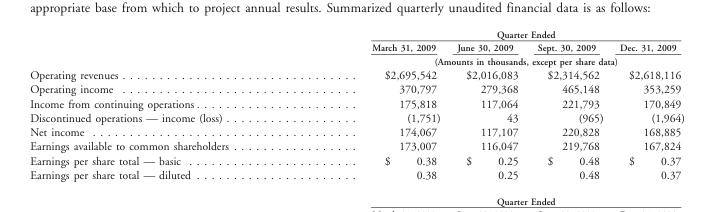table: (29, 28, 684, 180)
table column: (29, 28, 299, 180), (299, 28, 448, 180), (527, 28, 610, 180), (448, 28, 527, 180), (610, 28, 684, 180)
table column header: (29, 28, 684, 67)
table row: (29, 81, 684, 96), (29, 138, 684, 153), (29, 40, 684, 54), (29, 67, 684, 81), (29, 96, 684, 110), (29, 110, 684, 124), (29, 124, 684, 138), (29, 153, 684, 167), (29, 54, 684, 67), (29, 167, 684, 180), (29, 28, 684, 40)
table spanning cell: (299, 54, 684, 67), (299, 28, 684, 40)
